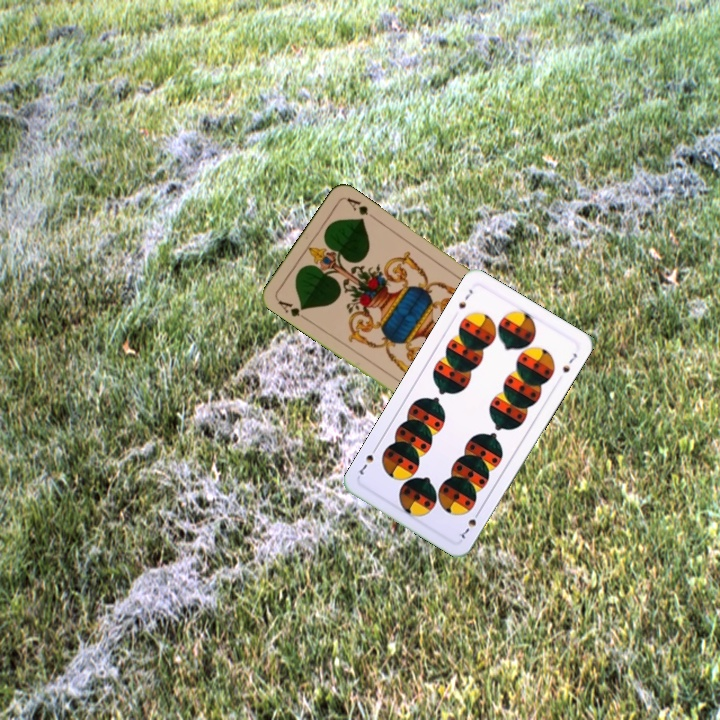GA: (274, 295, 310, 323)
S7: (454, 506, 483, 543), (454, 285, 476, 311)
